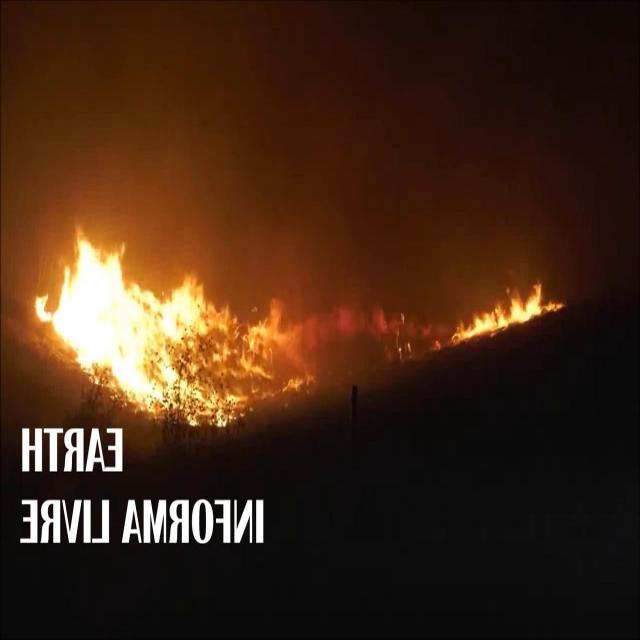fire: (27, 205, 289, 422), (445, 273, 569, 351)
